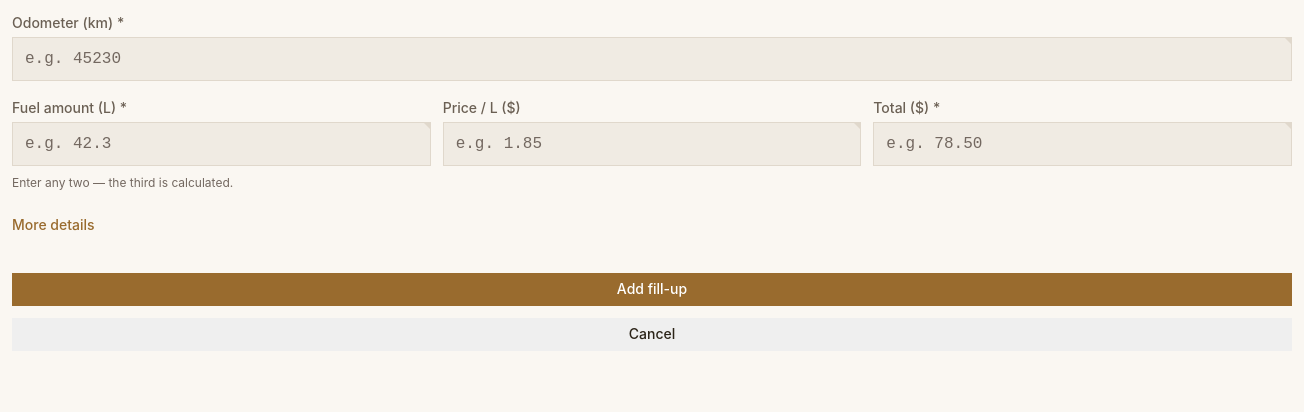
QuickFillForm › shows field errors and does not save invalid input
The width and height of the screenshot is (1304, 412).
Click the button "Add fill-up": [652, 289] box [12,273,1292,306]
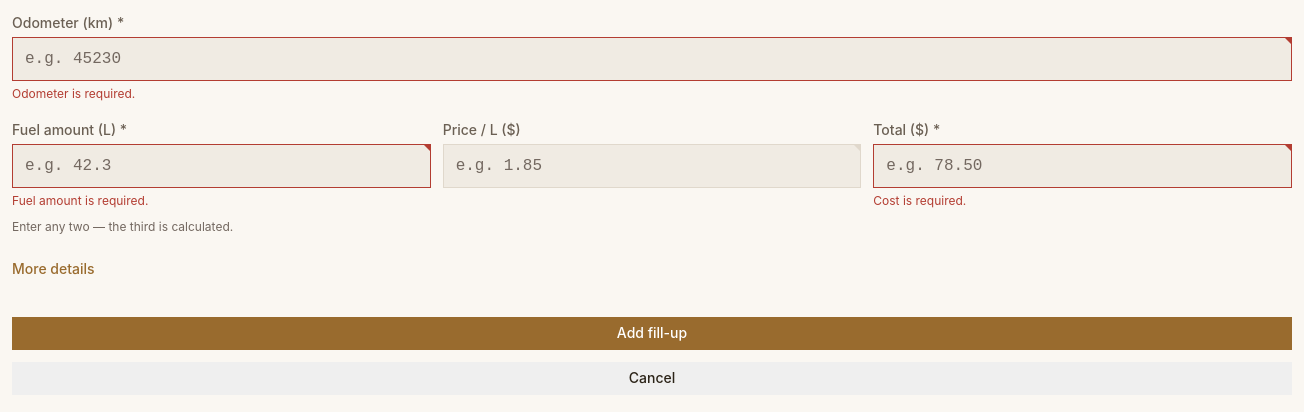
Expected: the text "Odometer is required." is shown, [12,86,135,101]
Expected: the text "Fuel amount is required." is shown, [12,193,148,208]
Expected: the text "Cost is required." is shown, [873,193,966,208]
